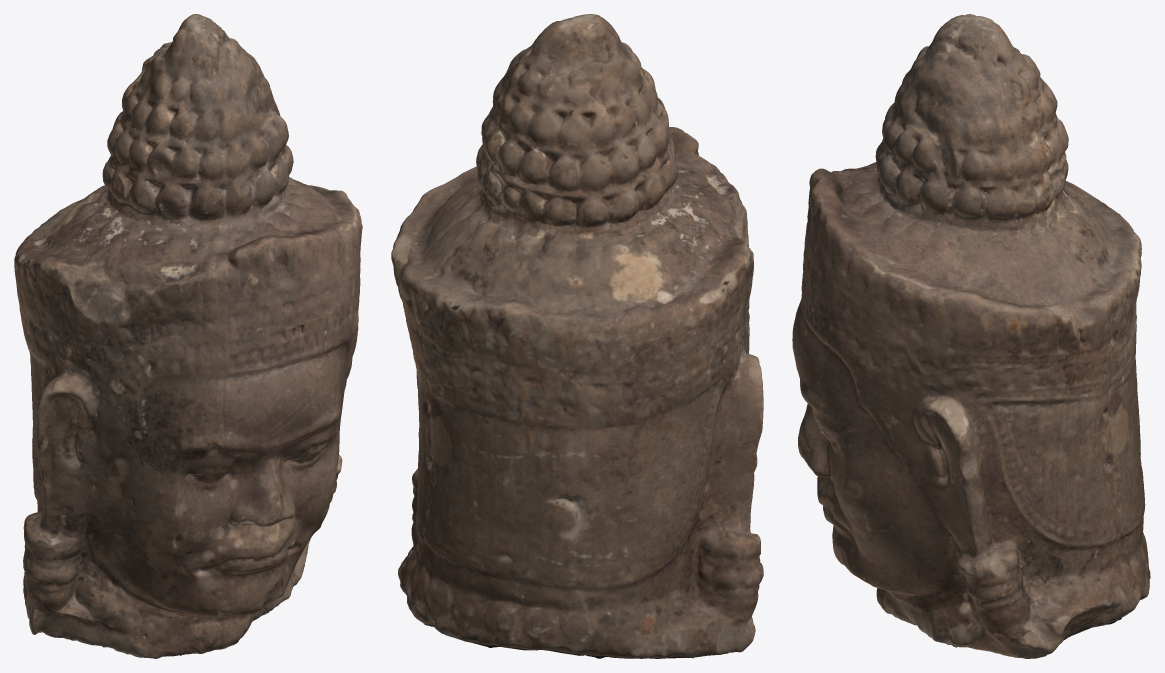
File: head_of_a_deva_1181-1218_ce.glb
3 views of the same model, side by side, from view 1: azimuth 30°, elevation 25°; view 2: azimuth 150°, elevation 25°; view 3: azimuth 270°, elevation 25° (orthographic). The views are drawn at different scales.
Parts seen in each view (by area): view 1: Object_2; view 2: Object_2; view 3: Object_2.
Part boxes in pixels (x1,y1,x2,y2): Object_2: (14, 14, 362, 658); Object_2: (391, 14, 763, 658); Object_2: (792, 14, 1150, 658).
Size of the model in its own units: 0.5037 by 0.8735 by 0.4717.
1 material, 1 textured.
